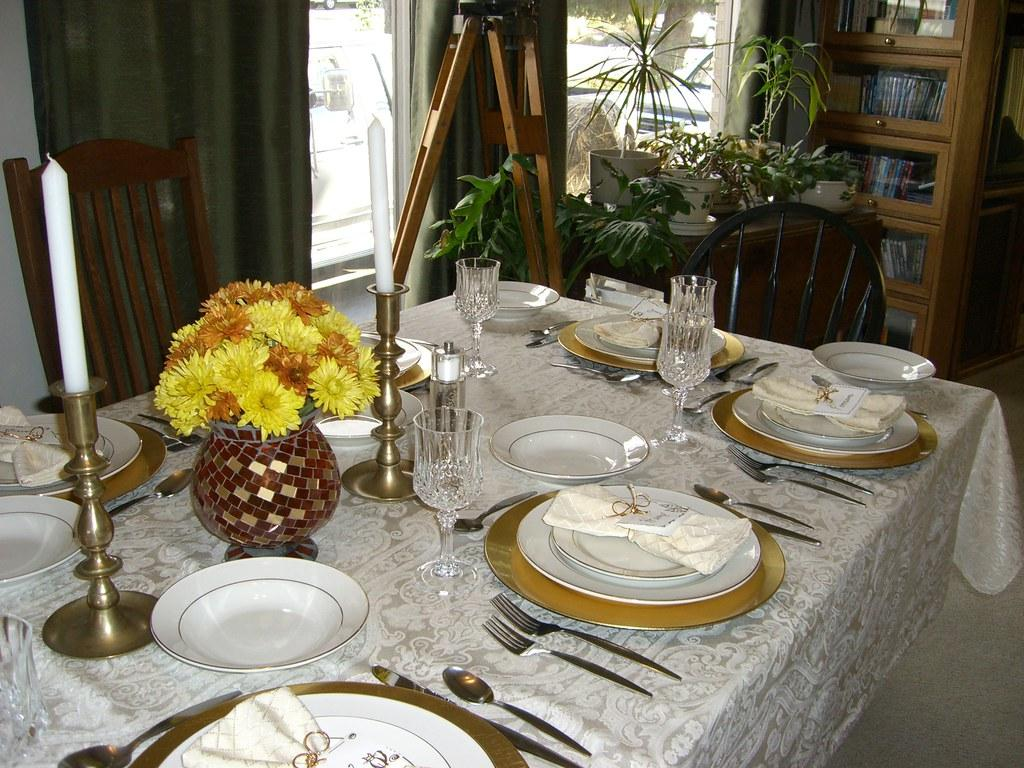table: (2, 279, 1021, 767)
